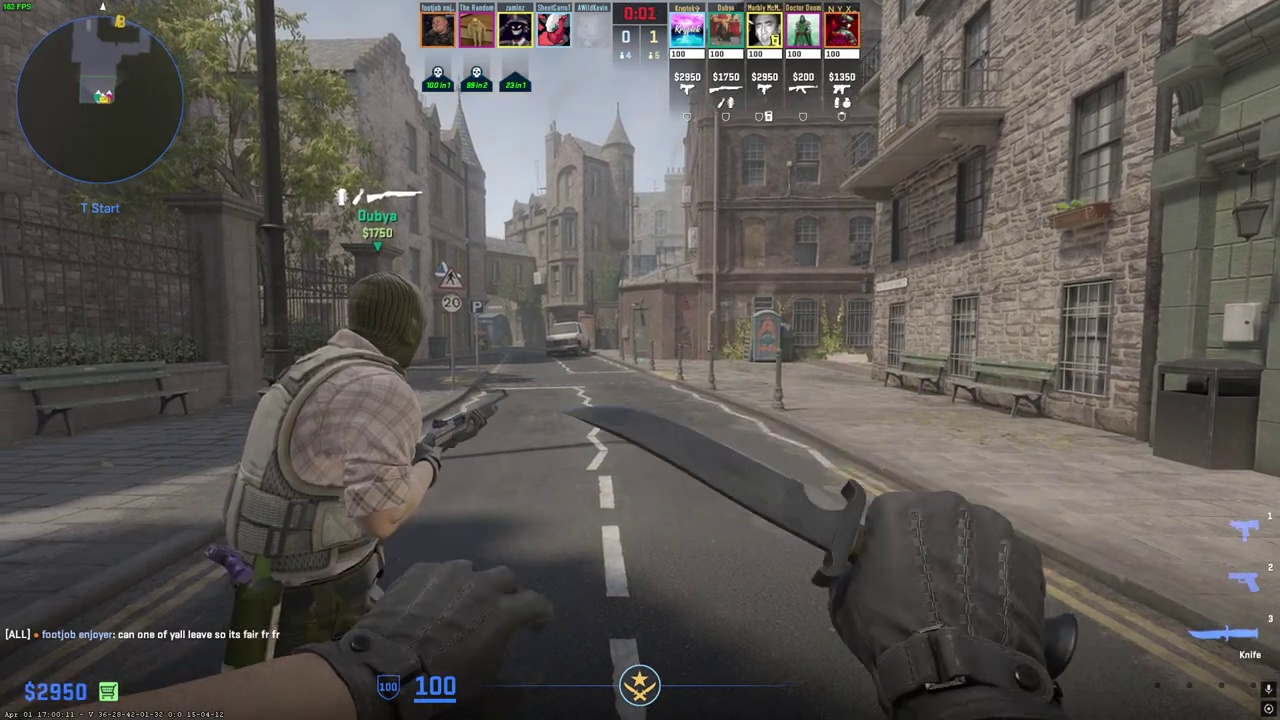Terrorist: (218, 268, 437, 658)
